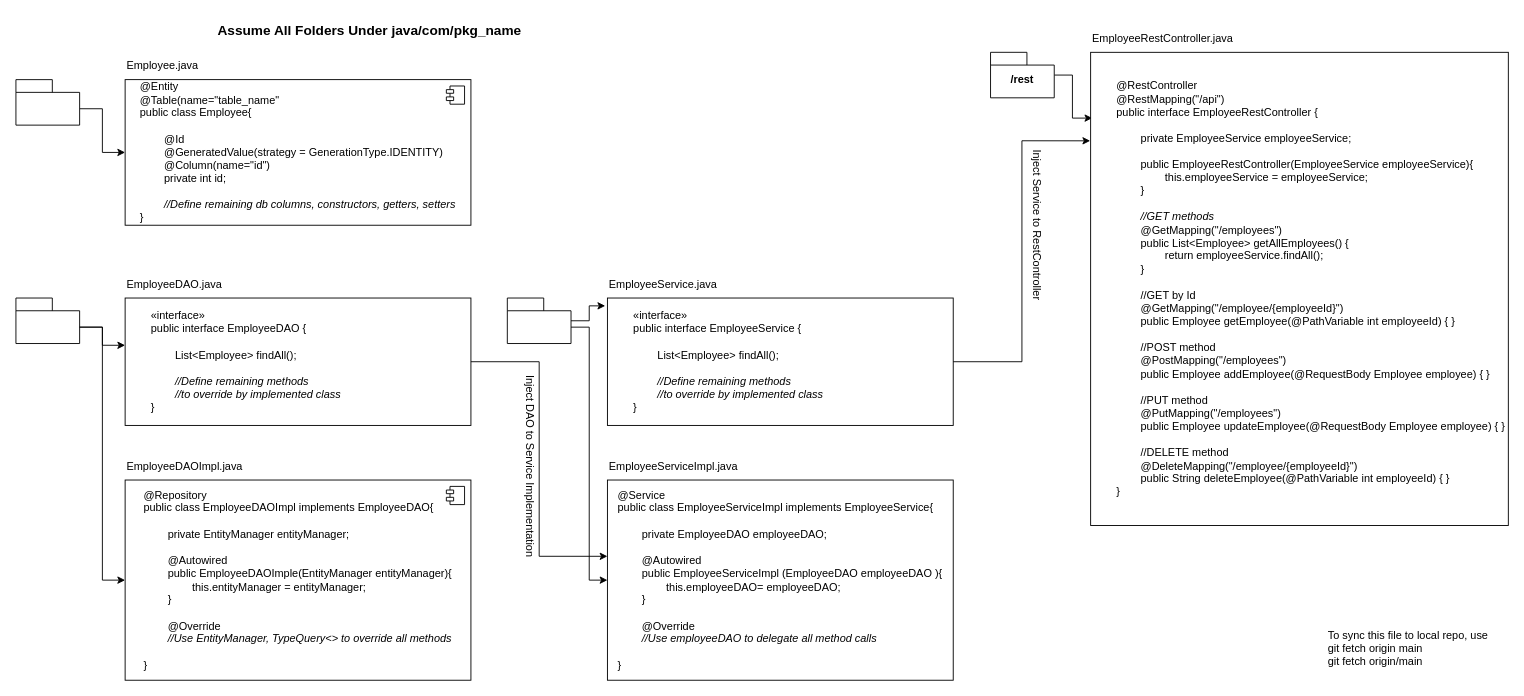
Image size: 1524x696. Some labels were removed from this diagram. Here are the shapes that lost their labels. From the top down, the box of each, then its label:
(15, 79, 80, 125): /entity
(15, 297, 80, 344): /dao
(506, 297, 571, 344): /service
